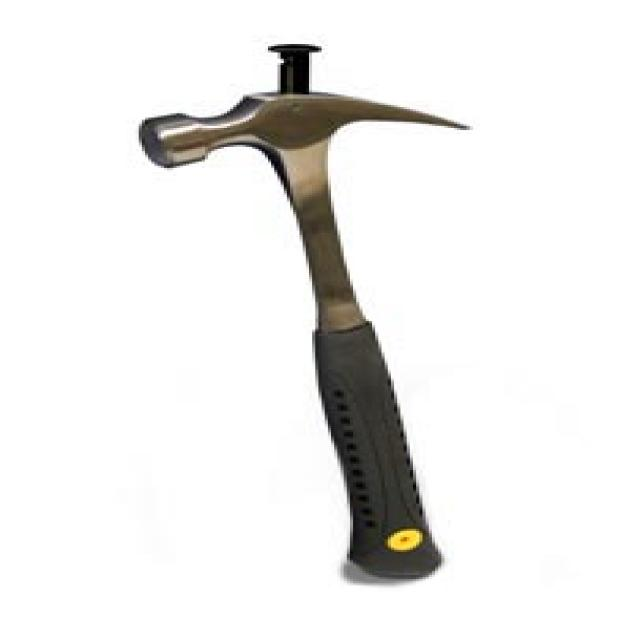hammer: (122, 25, 544, 601)
